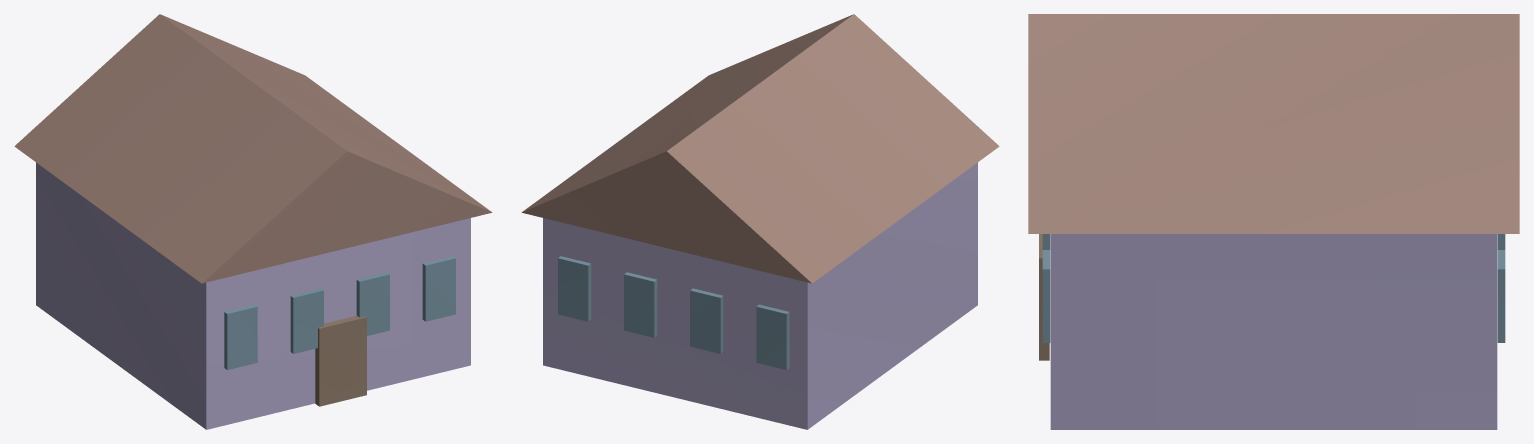
The model's file is market-01.glb.
The picture shows the model from 3 angles, left to right: view 1: azimuth 30°, elevation 25°; view 2: azimuth 150°, elevation 25°; view 3: azimuth 270°, elevation 25°; orthographic projection. The views are drawn at different scales.
Parts seen in each view (by area): view 1: world; view 2: world; view 3: world.
Boxes of the visible parts, x1,y1,x2,y2 form: world: (14, 14, 492, 429); world: (521, 14, 999, 429); world: (1028, 14, 1519, 429).
Size of the model in its own units: 1.42 by 1.18 by 1.58.
